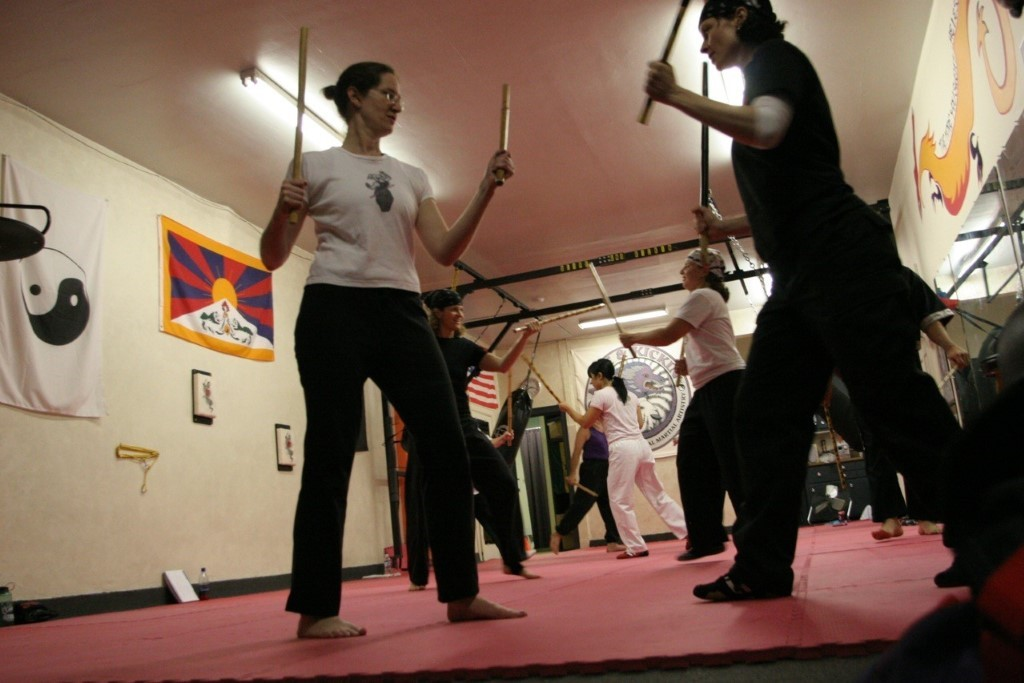baston_e: (639, 0, 688, 114), (288, 31, 311, 220), (589, 267, 635, 354), (516, 302, 600, 333), (701, 65, 712, 245), (521, 357, 563, 402), (823, 406, 845, 480), (498, 87, 511, 174), (935, 364, 958, 390), (565, 475, 594, 495), (506, 374, 512, 441), (678, 341, 687, 381)
baston_v: (697, 232, 713, 255), (493, 173, 508, 189), (635, 113, 650, 126), (287, 217, 300, 228), (837, 479, 849, 490), (500, 80, 513, 90), (585, 260, 597, 270), (298, 22, 311, 31), (504, 437, 513, 448), (630, 352, 640, 360), (510, 327, 519, 335), (518, 350, 526, 359), (701, 60, 710, 67), (673, 381, 682, 388), (593, 491, 600, 499), (601, 301, 607, 308), (621, 353, 627, 359)
